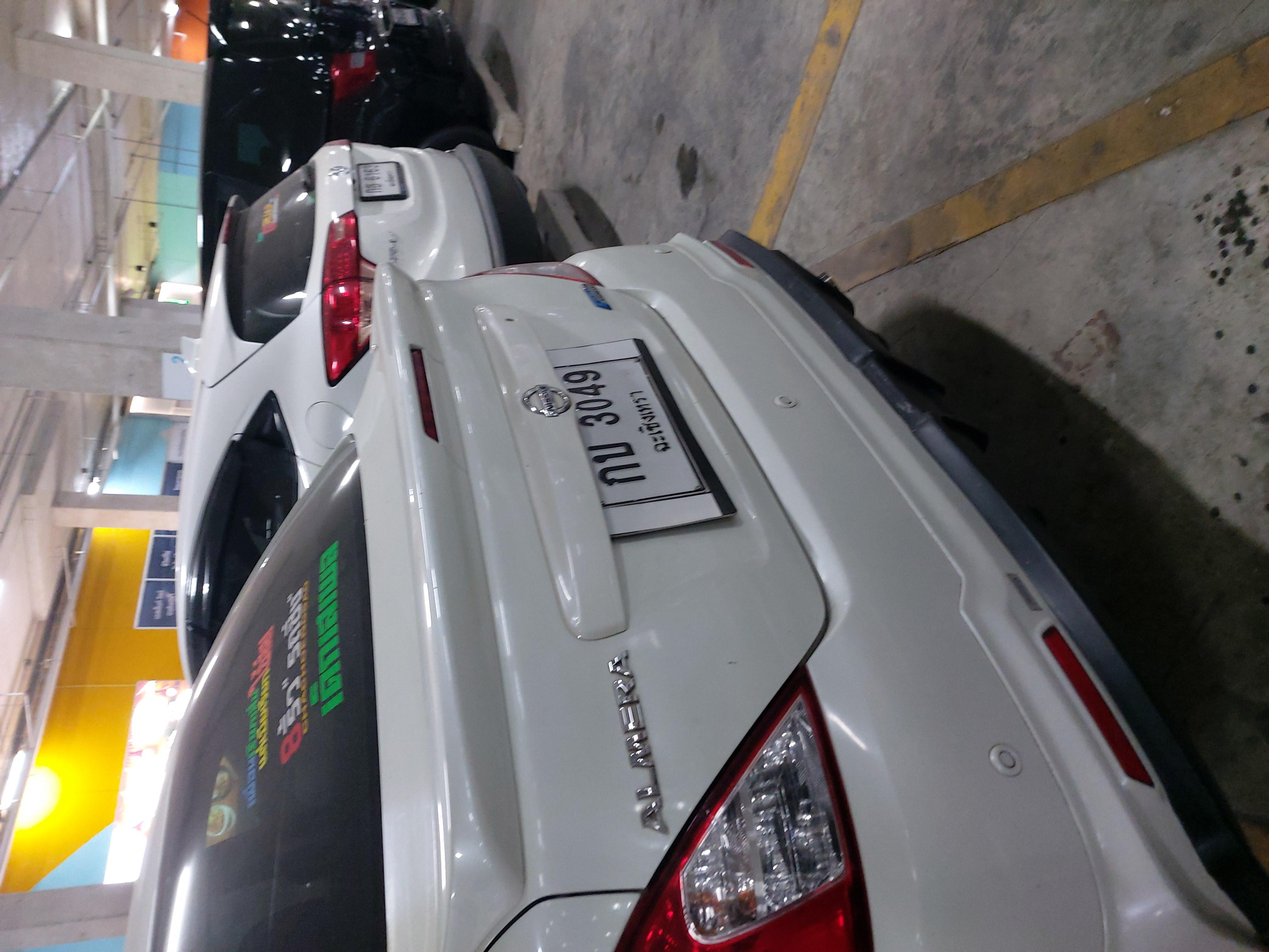license-plate: (595, 415, 793, 530)
